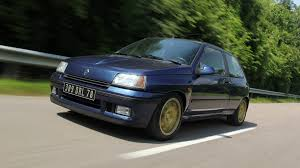car: (49, 36, 248, 134)
